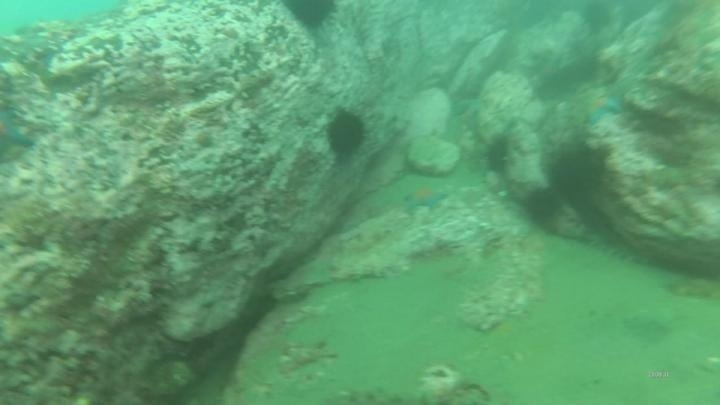echinus: (545, 141, 611, 204), (324, 107, 369, 161), (280, 1, 340, 33), (521, 185, 565, 228), (481, 133, 515, 178), (578, 1, 616, 35)
holothurian: (658, 272, 720, 303)
scallop: (404, 131, 462, 179)
starfish: (0, 105, 36, 166), (580, 87, 624, 127), (401, 181, 450, 215)
